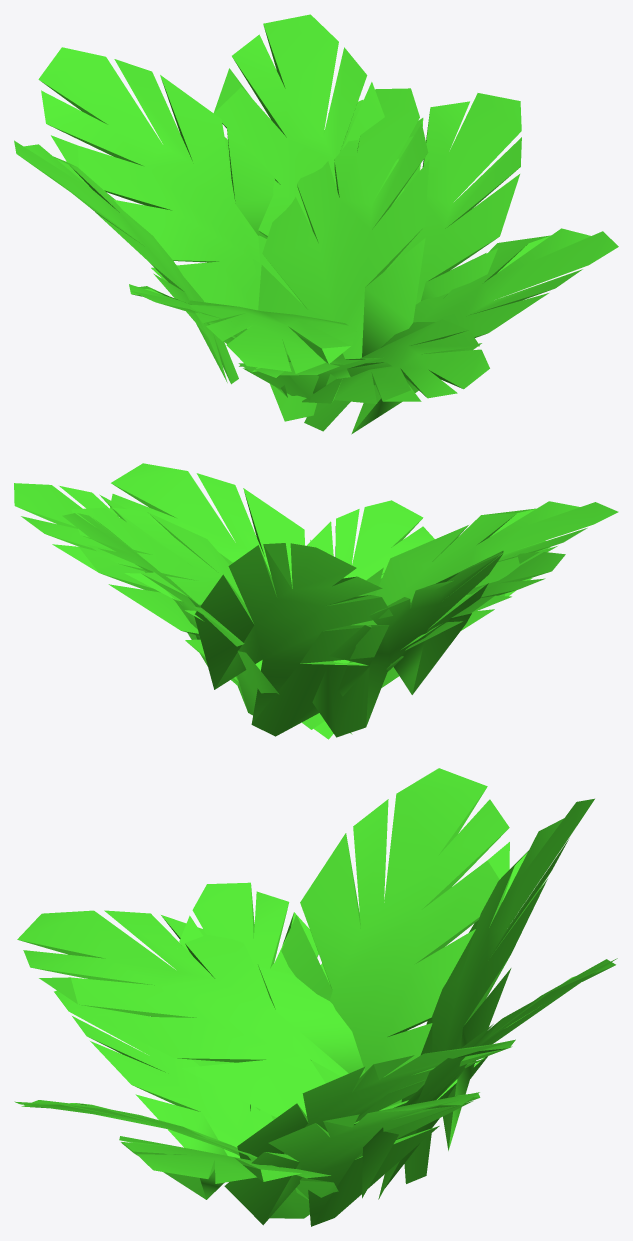
File: Gr-feuilles.FBX
3 renders of one model, top to bottom at view 1: azimuth 30°, elevation 25°; view 2: azimuth 150°, elevation 25°; view 3: azimuth 270°, elevation 25°, orthographic. The views are drawn at different scales.
Parts seen in each view (by area): view 1: feuille011, feuille018, feuille013, feuille010, feuille016, feuille012, feuille017, feuille014, feuille015, feuille004; view 2: feuille011, feuille014, feuille017, feuille016, feuille018, feuille010, feuille012, feuille013, feuille004, feuille015; view 3: feuille014, feuille017, feuille011, feuille010, feuille015, feuille018, feuille004, feuille016, feuille013, feuille012.
Boxes of the visible parts, box(x1,y1,x2,y2) form: feuille011: box(38, 47, 275, 328); feuille018: box(258, 88, 429, 421); feuille013: box(213, 14, 404, 310); feuille010: box(384, 93, 521, 304); feuille016: box(304, 228, 618, 434); feuille012: box(302, 319, 489, 403); feuille017: box(187, 300, 356, 373); feuille014: box(14, 140, 238, 384); feuille015: box(238, 357, 391, 397); feuille004: box(129, 284, 318, 400); feuille011: box(194, 543, 392, 736); feuille014: box(312, 551, 503, 737); feuille017: box(326, 501, 618, 662); feuille016: box(109, 463, 333, 739); feuille018: box(71, 507, 352, 734); feuille010: box(14, 483, 238, 685); feuille012: box(289, 500, 434, 729); feuille013: box(62, 513, 279, 715); feuille004: box(386, 552, 565, 671); feuille015: box(349, 540, 550, 687); feuille014: box(281, 768, 509, 1108); feuille017: box(17, 910, 365, 1117); feuille011: box(401, 798, 594, 1183); feuille010: box(224, 1092, 480, 1226); feuille015: box(54, 990, 273, 1158); feuille018: box(237, 1039, 515, 1160); feuille004: box(177, 882, 341, 1119); feuille016: box(119, 1136, 338, 1218); feuille013: box(362, 958, 617, 1199); feuille012: box(14, 1100, 308, 1199).
Bounding box in the file's own units: 33.04 × 19.92 × 30.71.
